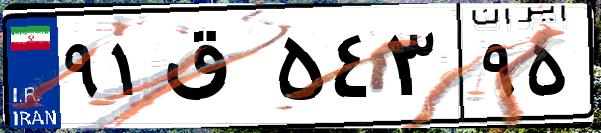1: (110, 28, 158, 98)
3: (385, 28, 445, 110)
4: (330, 28, 385, 110)
5: (270, 28, 330, 110), (525, 38, 570, 115)
9: (57, 26, 110, 100), (475, 38, 525, 113)
ق: (158, 20, 270, 120)
